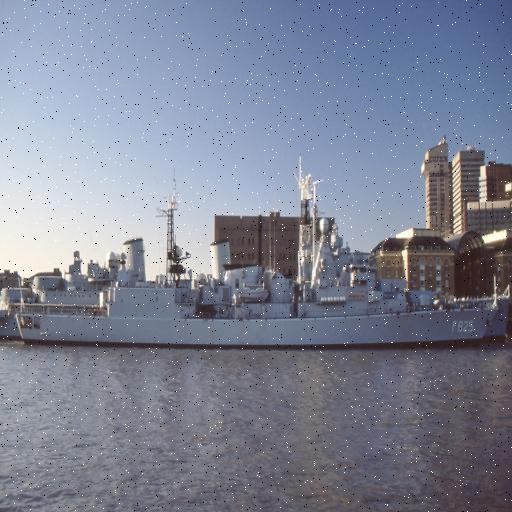Fragata: (17, 163, 512, 353)
